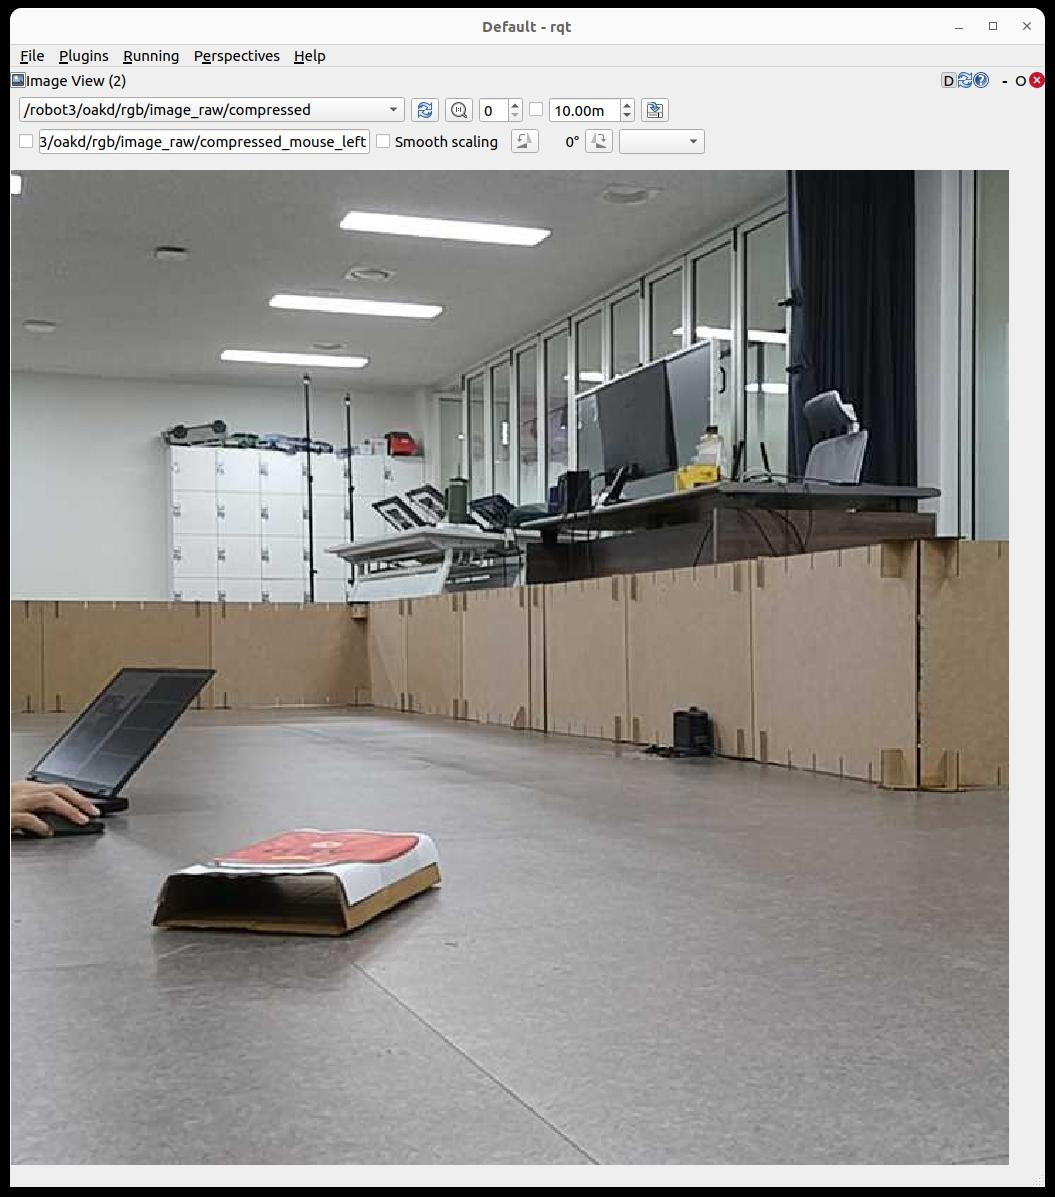AED: (209, 829, 420, 872)
